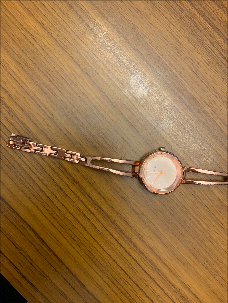Nonfood: (40, 145, 214, 193)
